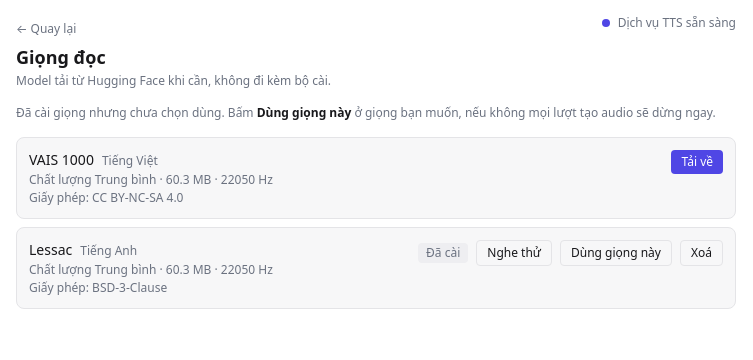
tiến độ tải › giai đoạn verify nói rõ đang kiểm tra, không để thanh đứng im khó hiểu
Expected: the number of list items with test id "voice-row" is 2, x1=16 y1=137 x2=736 y2=219; x1=16 y1=227 x2=736 y2=309
Click the button "Tải về": (697, 162) x1=672 y1=150 x2=723 y2=174
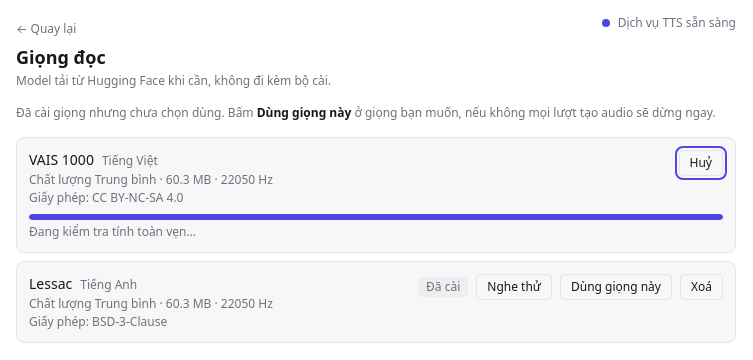
Expected: the text "Đang kiểm tra tính toàn vẹn…" is shown, x1=29 y1=223 x2=196 y2=240
